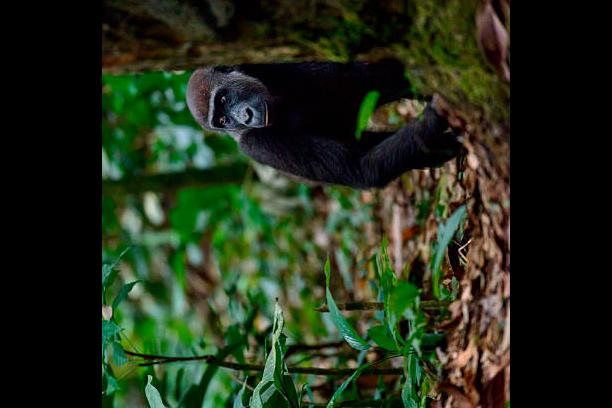gorille_Autres: (153, 7, 496, 228)
